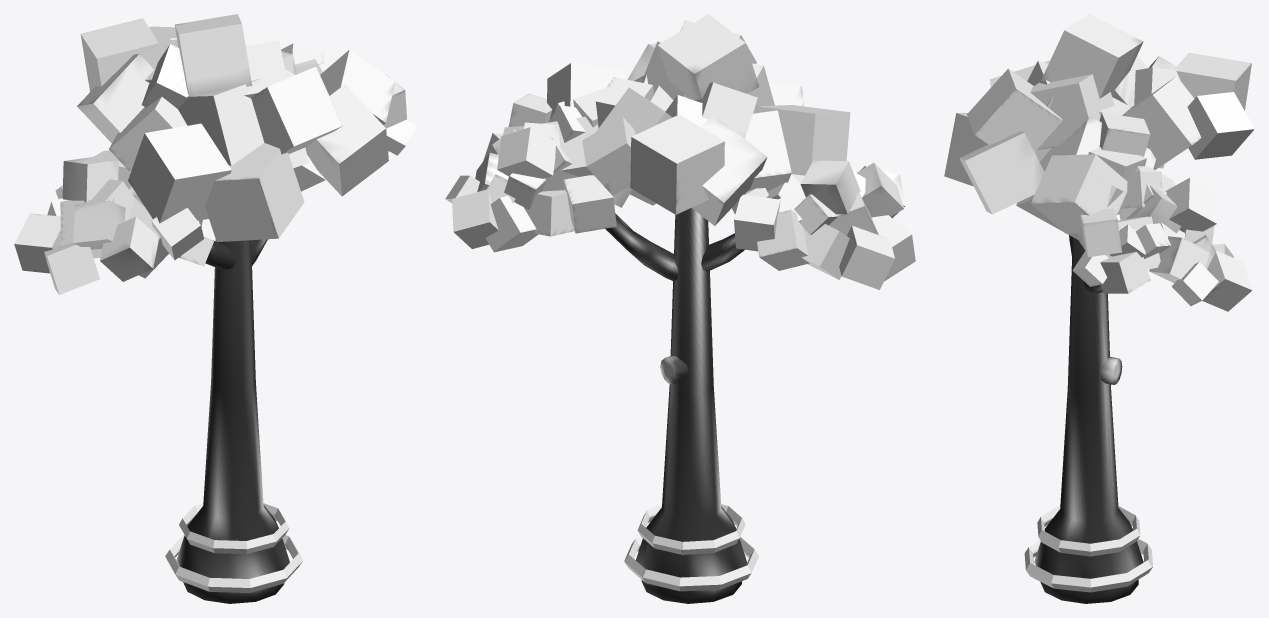
Rendered from LIGHT_TREE4.FBX.
3 views of the same model, side by side, from view 1: azimuth 30°, elevation 25°; view 2: azimuth 150°, elevation 25°; view 3: azimuth 270°, elevation 25° (orthographic). The views are drawn at different scales.
Parts seen in each view (by area): view 1: LIGHT_TREE4; view 2: LIGHT_TREE4; view 3: LIGHT_TREE4.
Boxes of the visible parts, <box> form: LIGHT_TREE4: <box>14,14,416,603</box>; LIGHT_TREE4: <box>445,14,915,603</box>; LIGHT_TREE4: <box>944,14,1254,603</box>.
Bounding box in the file's own units: 327 × 439 × 224.
